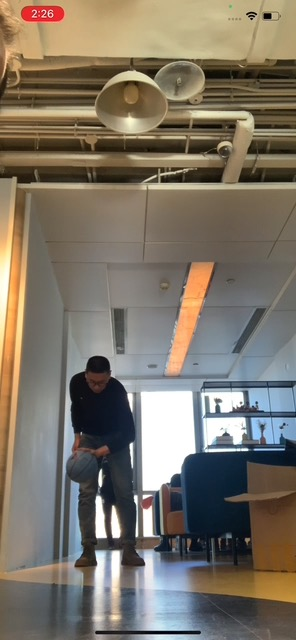ball: (66, 451, 99, 485)
